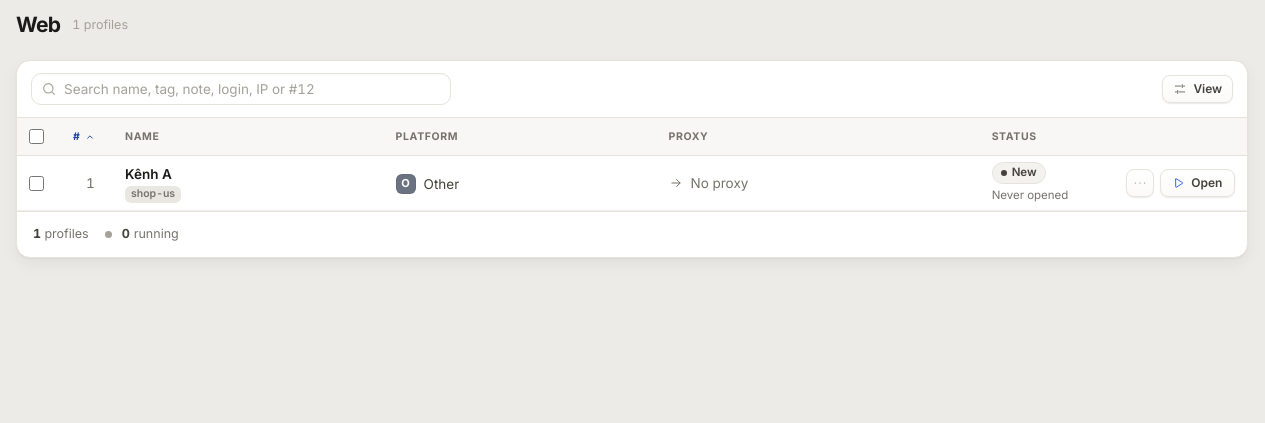
profiles toolbar › finds a profile by #number and ignores diacritics
Type "kenh a" into the field labelled "Search name, tag, note, login, IP or #12" at (241, 89), box [31,73,451,105]
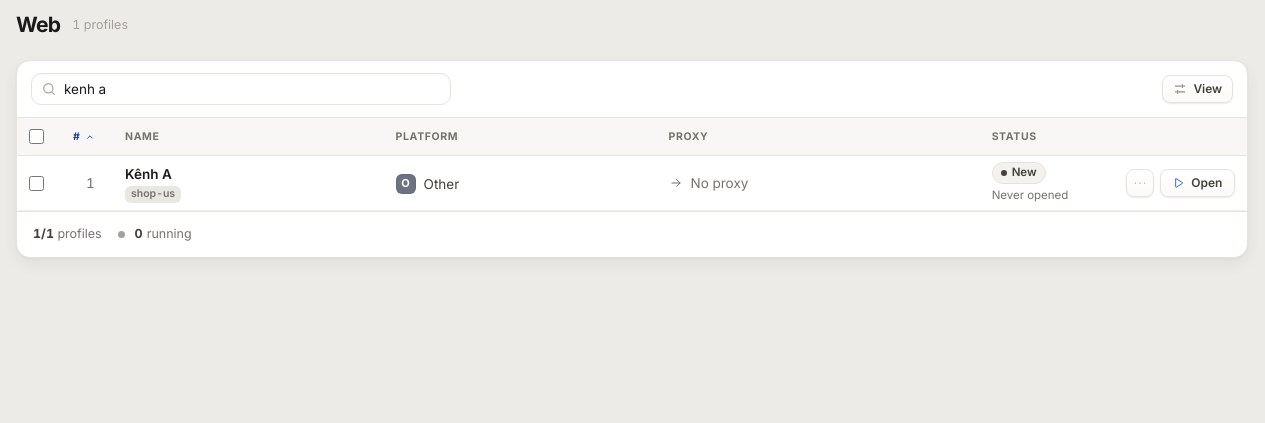
Expected: the text "Kênh A" is shown, [125,166,172,182]
Replace the text in the field named "Search name, tag, note, login, IP or #12" with "#2" at (241, 89), box [31,73,451,105]
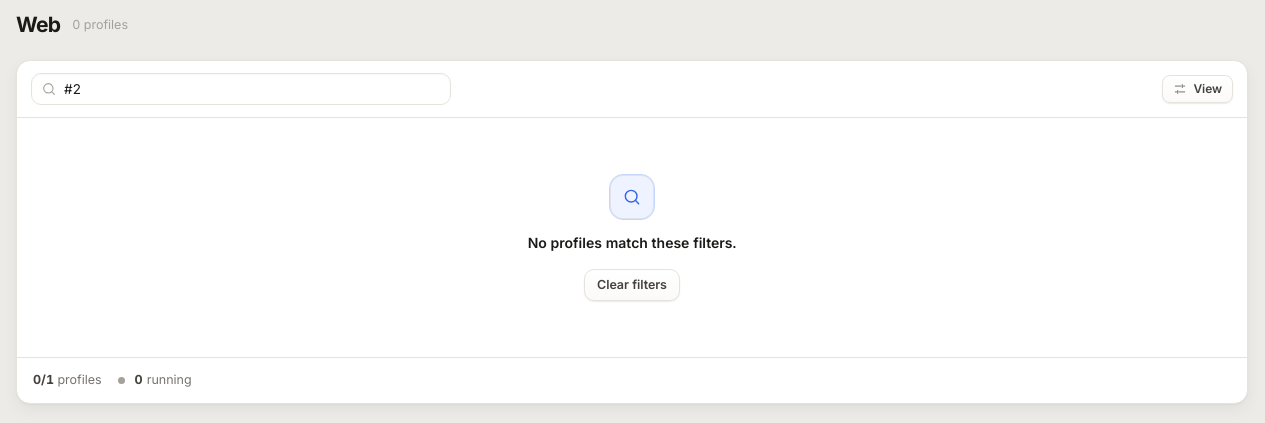
Result: the text "Kênh A" is gone
